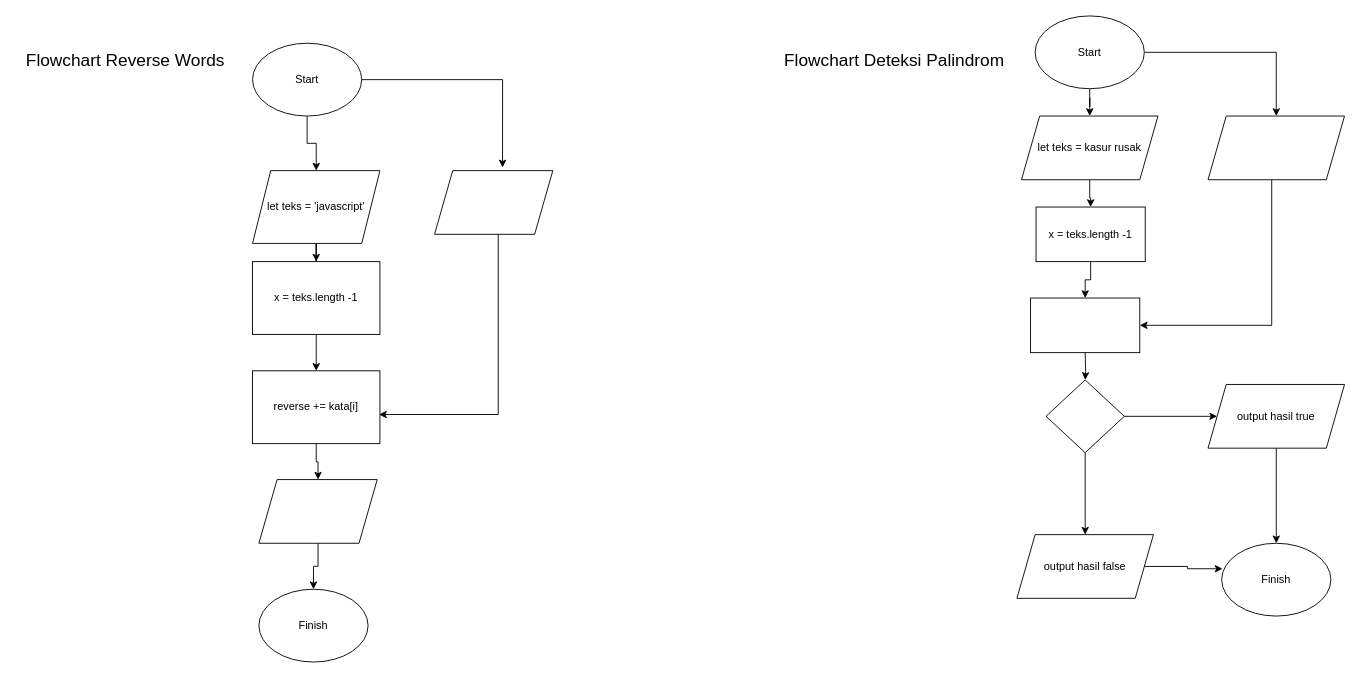
This 1360x678 diagram has some shape labels left out. The shapes that lost their labels are listed below. From the top down, each one's box as (x1, y1, x2, y2) in pixels, then its label:
(1207, 115, 1345, 180): let palindrome = " "
(434, 170, 553, 234): let reverse = ' '
(1030, 297, 1140, 353): palindrome += teks[i]
(1045, 379, 1124, 453): if teks = palindrome
(258, 479, 377, 543): output hasil
